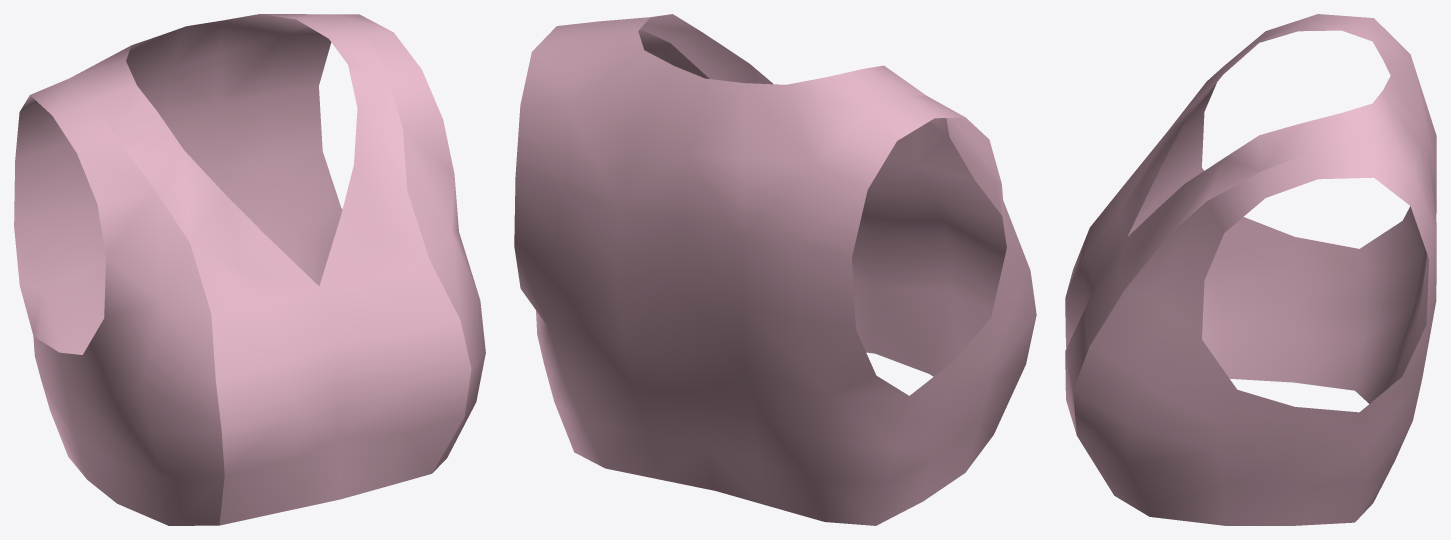
Rendered from blouse_13.glb.
The picture shows the model from 3 angles, left to right: view 1: azimuth 30°, elevation 25°; view 2: azimuth 150°, elevation 25°; view 3: azimuth 270°, elevation 25°; orthographic projection. The views are drawn at different scales.
Parts seen in each view (by area): view 1: Blouse_13; view 2: Blouse_13; view 3: Blouse_13.
Part boxes in pixels (x1,y1,x2,y2): Blouse_13: (14, 14, 485, 525); Blouse_13: (514, 14, 1036, 525); Blouse_13: (1065, 14, 1436, 525).
Bounding box in the file's own units: 0.2752 × 0.2818 × 0.2466.
